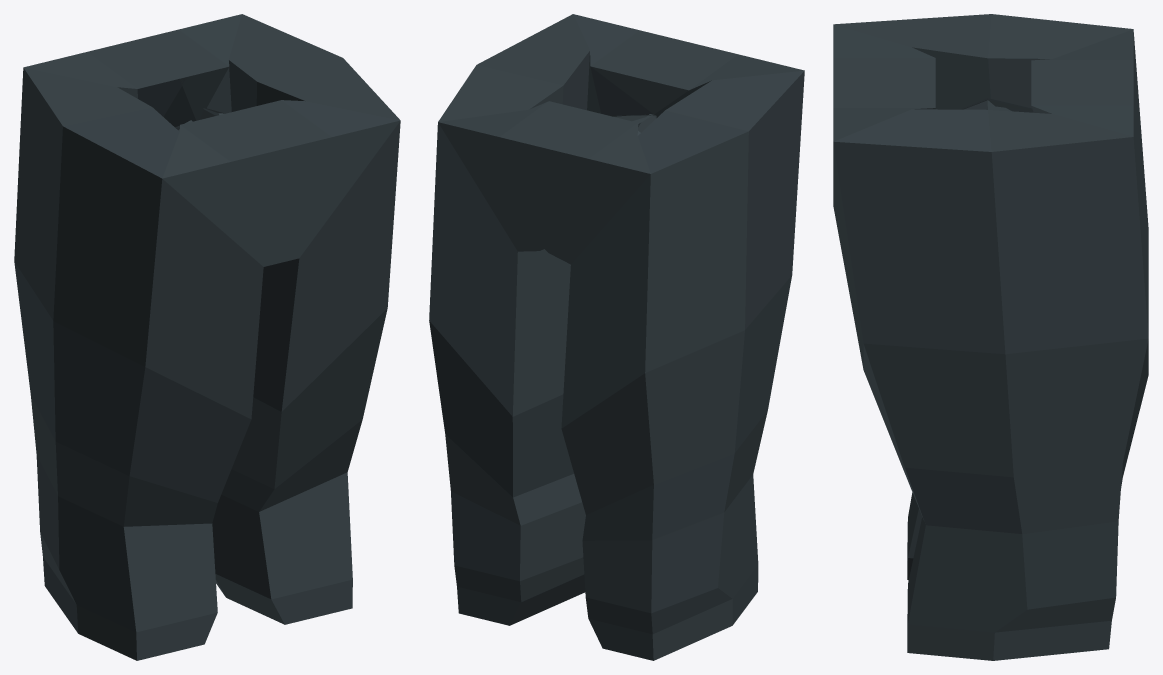
The model's file is Iron_Pants.fbx.
3 views of the same model, side by side, from view 1: azimuth 30°, elevation 25°; view 2: azimuth 150°, elevation 25°; view 3: azimuth 270°, elevation 25° (orthographic). The views are drawn at different scales.
Visible parts, largest first — view 1: Pants; view 2: Pants; view 3: Pants.
Boxes of the visible parts, bbox=[...] form: Pants: bbox=[14, 14, 400, 660]; Pants: bbox=[429, 14, 804, 660]; Pants: bbox=[833, 14, 1148, 660].
Size of the model in its own units: 0.3253 by 0.3079 by 0.5618.
1 material, 1 textured.
